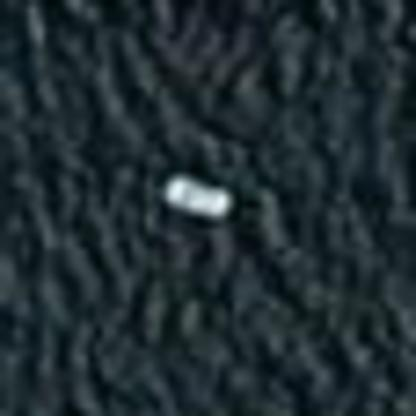ship: (151, 165, 239, 226)
